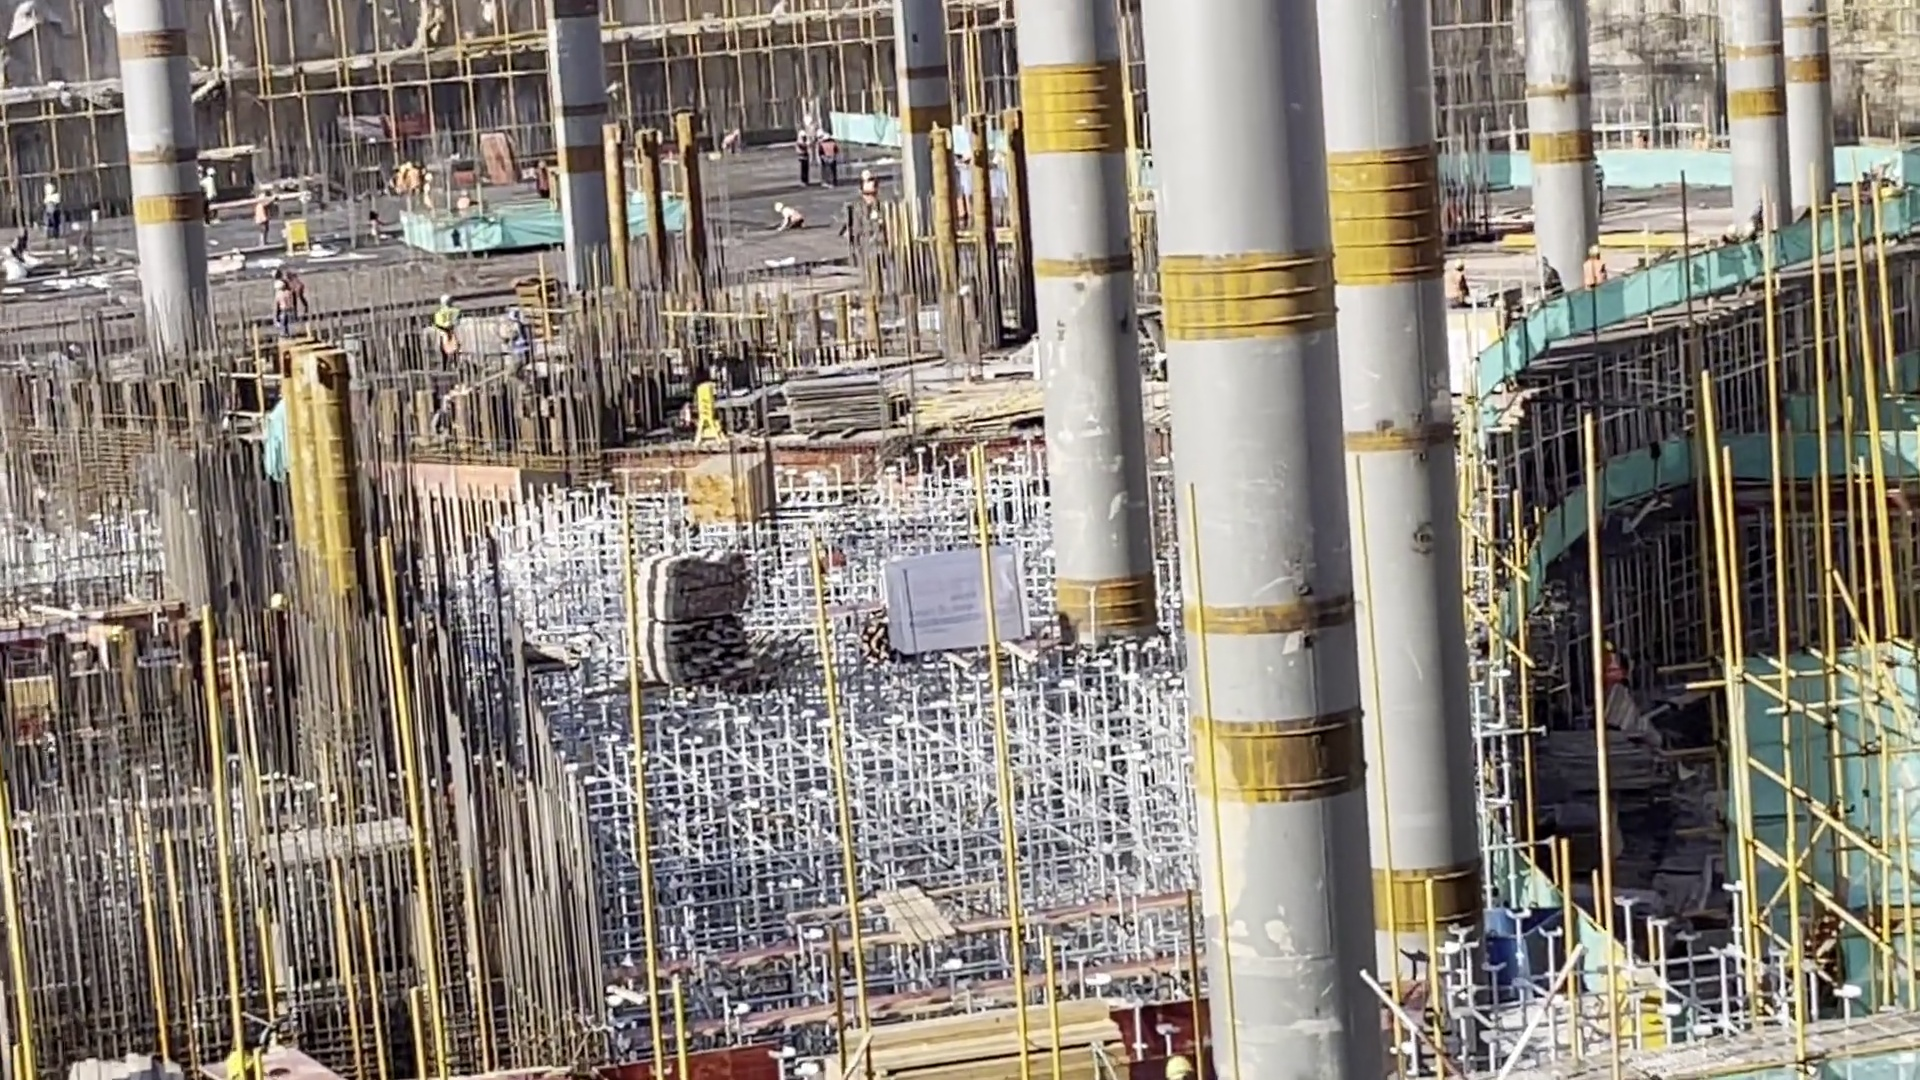cutter: (197, 1011, 358, 1080)
ebox: (691, 379, 726, 446), (281, 214, 314, 261)
helmet: (1162, 1054, 1192, 1080)
person: (855, 166, 882, 219), (199, 163, 220, 232), (270, 280, 297, 333), (40, 182, 62, 243), (250, 192, 273, 247), (819, 133, 842, 183), (770, 200, 806, 234), (432, 292, 462, 330), (795, 129, 813, 187), (1451, 257, 1472, 307), (1582, 245, 1608, 284)
wood: (631, 539, 782, 704), (840, 1002, 1133, 1080), (686, 451, 778, 519)
